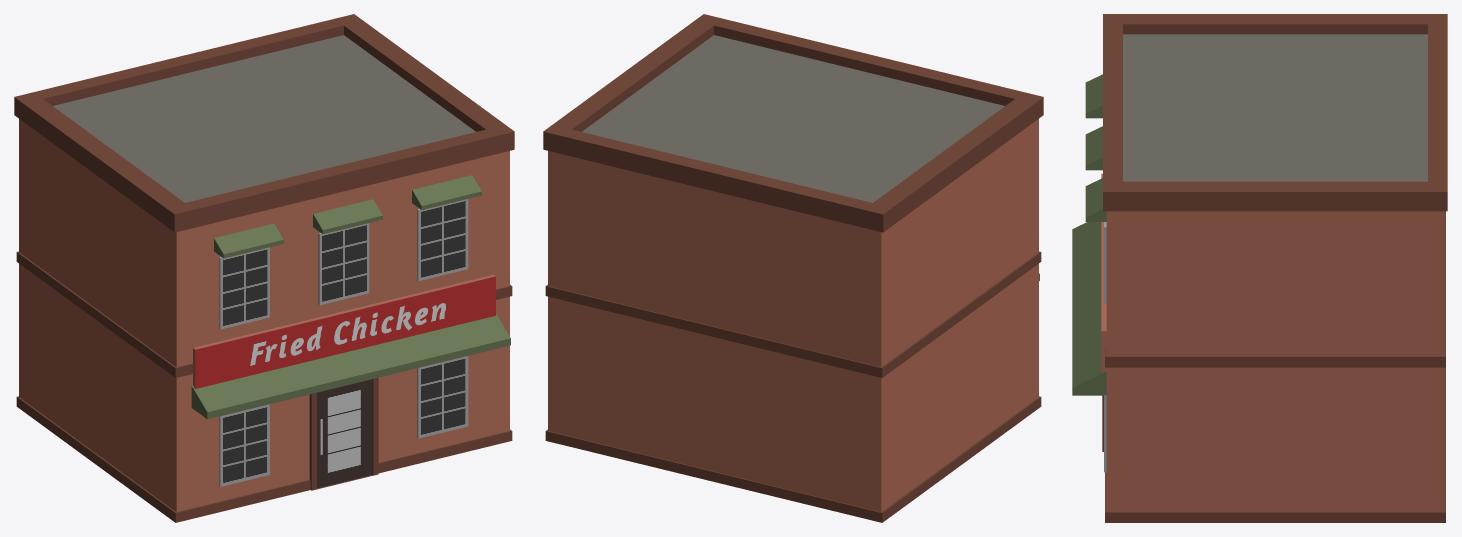
File: building-chicken-shop.glb
3 renders of one model, left to right at view 1: azimuth 30°, elevation 25°; view 2: azimuth 150°, elevation 25°; view 3: azimuth 270°, elevation 25°, orthographic. The views are drawn at different scales.
Visible parts, largest first — view 1: Building_Chicken Shop; view 2: Building_Chicken Shop; view 3: Building_Chicken Shop.
Boxes of the visible parts, bbox=[...] form: Building_Chicken Shop: bbox=[14, 14, 514, 522]; Building_Chicken Shop: bbox=[543, 14, 1043, 522]; Building_Chicken Shop: bbox=[1072, 14, 1447, 522].
Size of the model in its own units: 11.22 by 9.76 by 10.
Materials: 1 (1 with a texture image).
